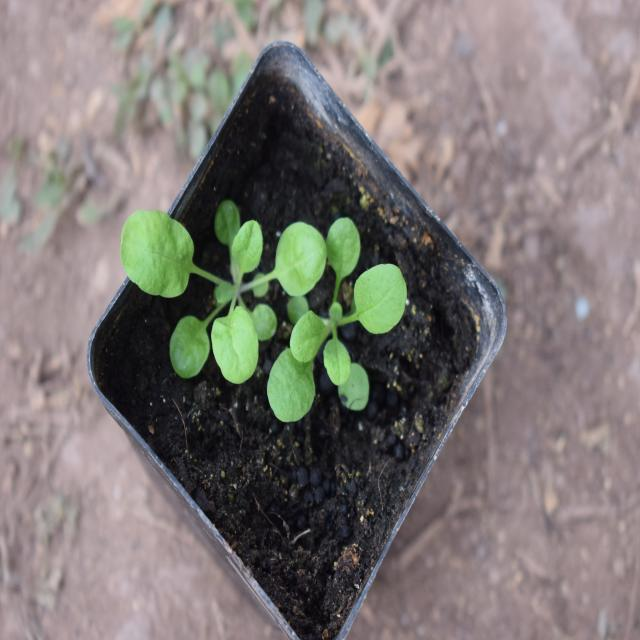Shepherd_Purse: (115, 189, 295, 372), (253, 222, 406, 414)
